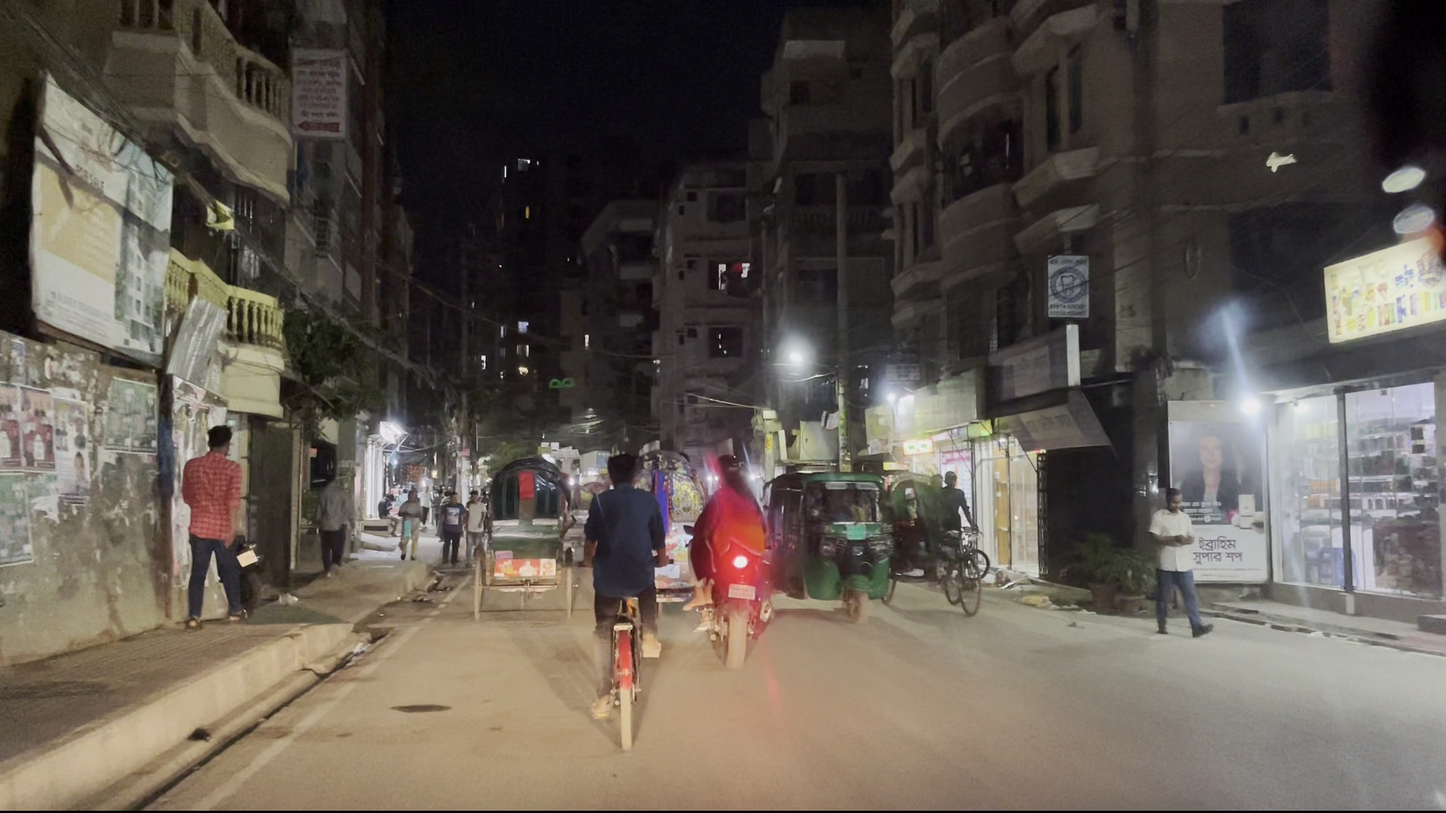bicycle: (576, 448, 677, 757)
motorbike: (683, 435, 780, 678)
person: (182, 422, 256, 630), (1149, 482, 1214, 639), (316, 468, 353, 577), (398, 489, 427, 559), (439, 489, 465, 567), (465, 487, 490, 566)
